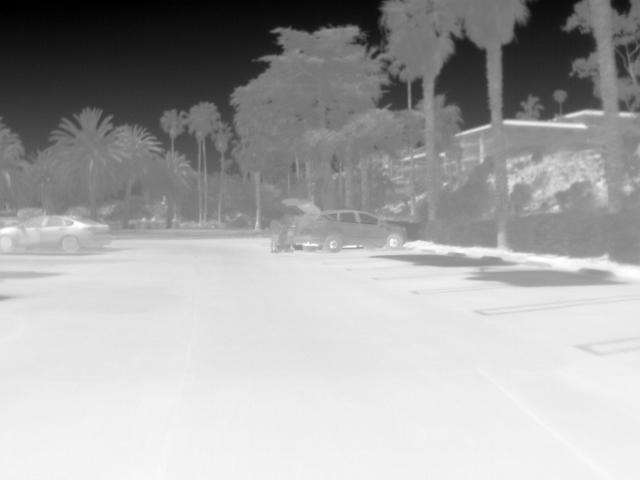car: (278, 194, 408, 254), (0, 212, 115, 254), (15, 205, 48, 223)
person: (268, 218, 284, 253)
